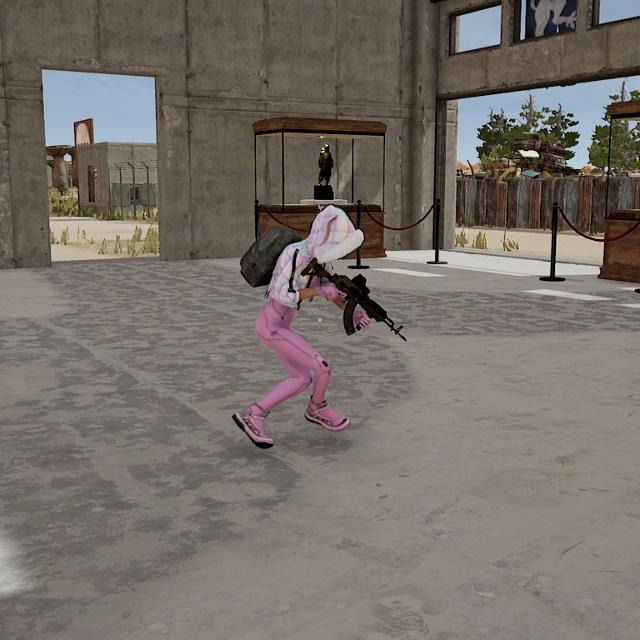head: (306, 205, 362, 262)
people: (232, 199, 369, 456)
